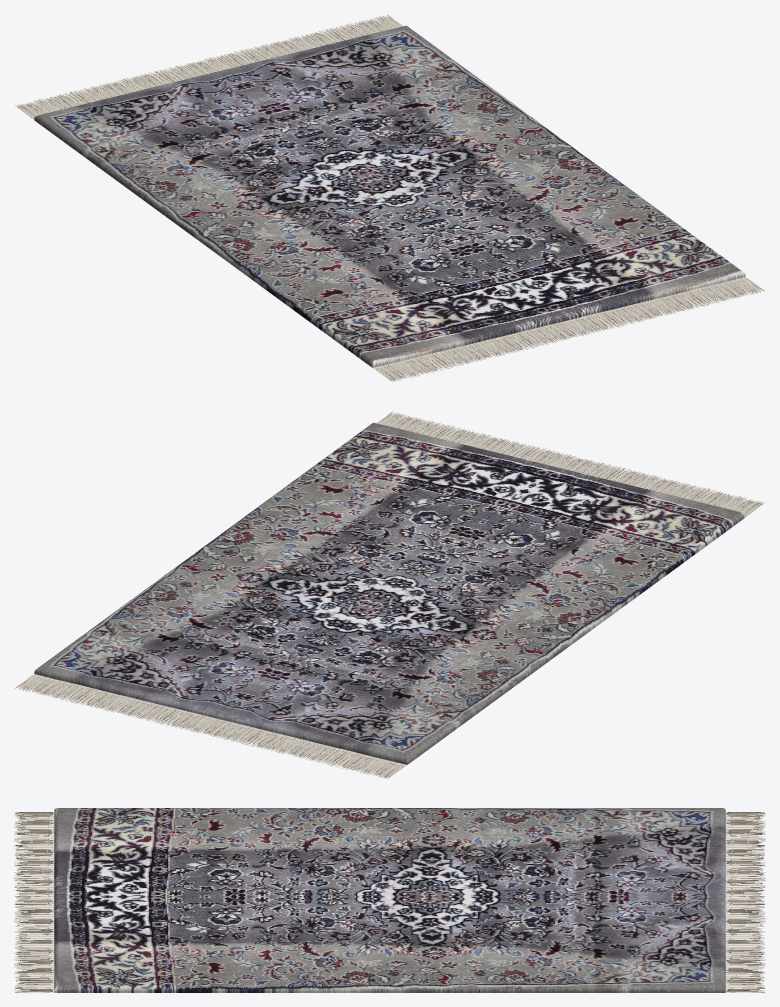
3 views of the same model, one above another, from view 1: azimuth 30°, elevation 25°; view 2: azimuth 150°, elevation 25°; view 3: azimuth 270°, elevation 25° (orthographic).
Parts seen in each view (by area): view 1: k13; view 2: k13; view 3: k13.
Boxes of the visible parts, x1,y1,x2,y2 form: k13: (15,15,764,381); k13: (15,412,764,778); k13: (14,808,765,992).
Bounding box in the file's own units: 0.7 × 0.0105 × 1.23.
Materials: 3 (2 with a texture image).
